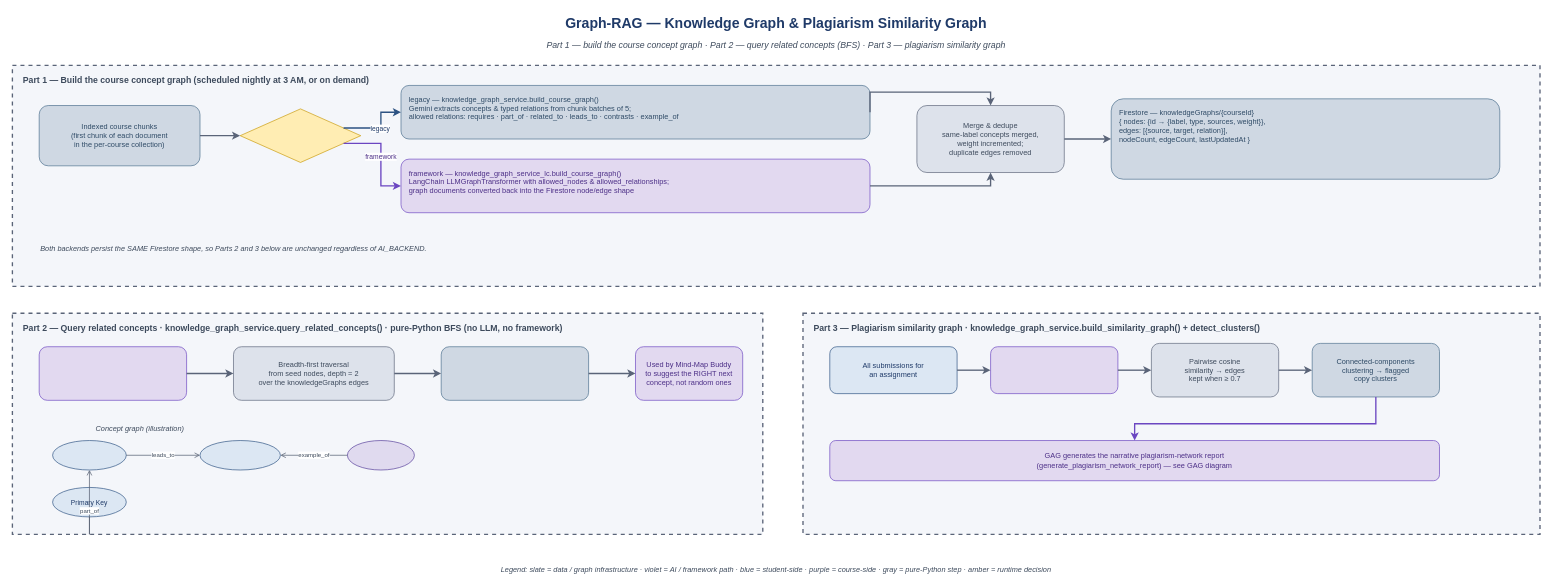
The diagram is 1552 pixels wide and 588 high, and some of its shapes have lost their labels. The shapes that lost their labels are listed below. From the top down, each one's centre as x and y in pixels, then its label:
At [300,135]: "AI_BACKEND ?".
At [113,373]: "Seed label(s) e.g. node the student is editing in a mind map".
At [515,373]: "Connected subgraph { nodes, edges } within 2 hops of the seed".
At [1054,370]: "Embed each submission (Gemini embeddings)".
At [89,455]: "ER Model".
At [239,455]: "Normalisation".
At [380,455]: "3NF".
